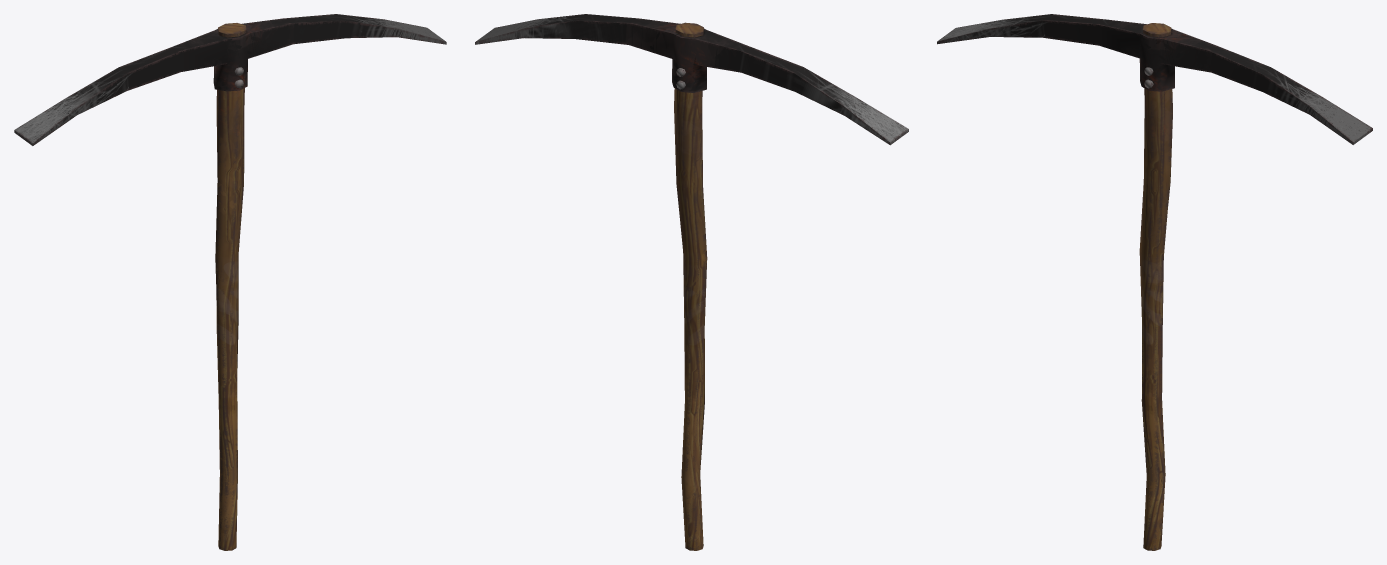
File: Pickaxe.fbx
3 views of the same model, side by side, from view 1: azimuth 30°, elevation 25°; view 2: azimuth 150°, elevation 25°; view 3: azimuth 330°, elevation 25° (orthographic).
Visible parts, largest first — view 1: Pickaxe_LP_Rev; view 2: Pickaxe_LP_Rev; view 3: Pickaxe_LP_Rev.
Boxes of the visible parts, left/top/right/bottom form: Pickaxe_LP_Rev: left=14, top=14, right=446, bottom=550; Pickaxe_LP_Rev: left=475, top=14, right=908, bottom=550; Pickaxe_LP_Rev: left=937, top=14, right=1372, bottom=550.
Bounding box in the file's own units: 0.7631 × 0.0641 × 0.9112.
